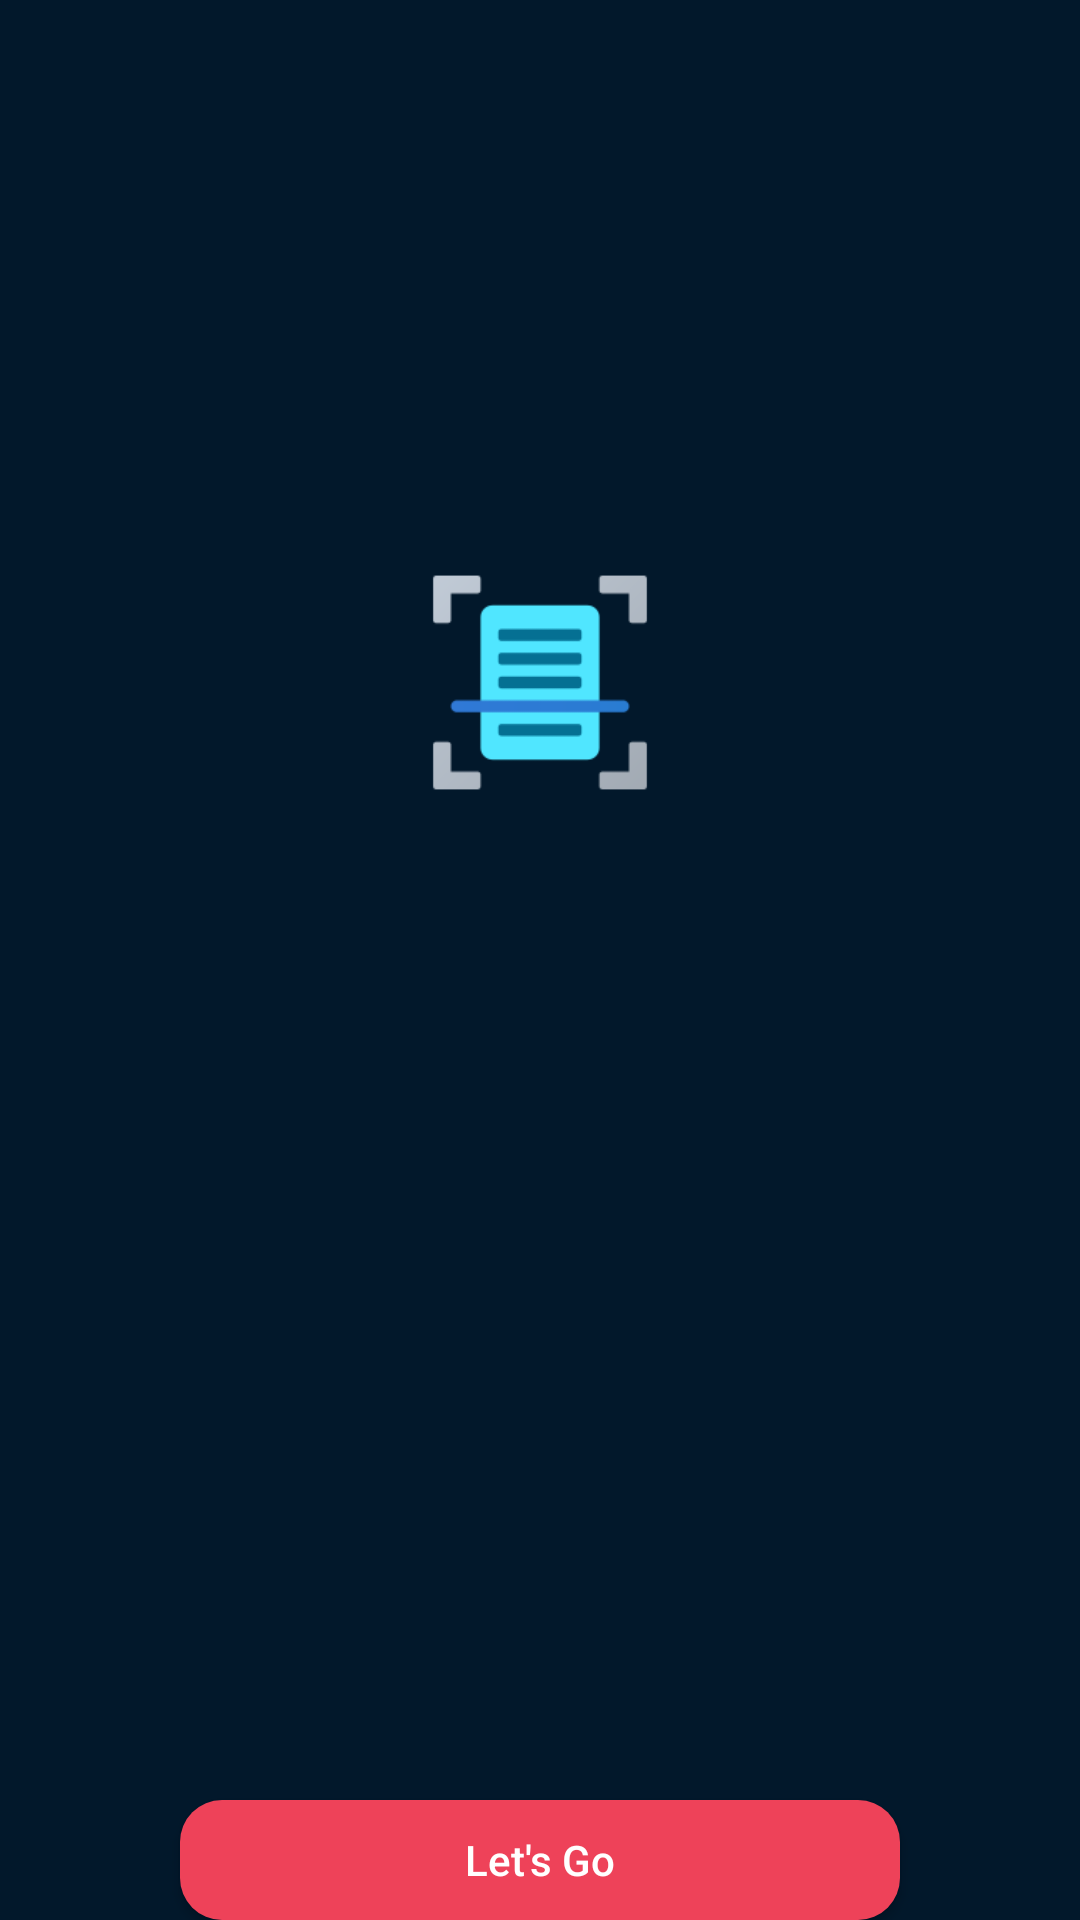

Icon bounding boxes for this 1080px x 1920px phone screenshot, format [left=x1, top=y1, right=x2, bottom=y2]:
doc: [left=433, top=575, right=647, bottom=790]
